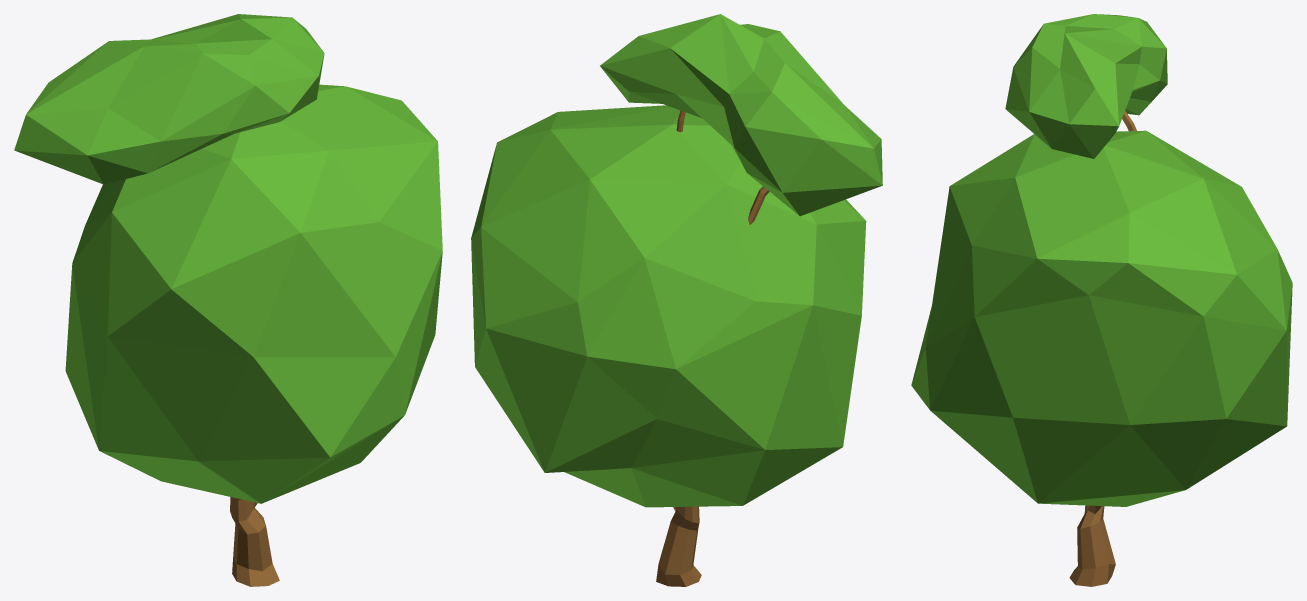
File: Bush_3.fbx
3 views of the same model, side by side, from view 1: azimuth 30°, elevation 25°; view 2: azimuth 150°, elevation 25°; view 3: azimuth 270°, elevation 25° (orthographic). The views are drawn at different scales.
Parts seen in each view (by area): view 1: Bush_3; view 2: Bush_3; view 3: Bush_3.
Boxes of the visible parts, left/top/right/bottom form: Bush_3: left=14, top=14, right=442, bottom=586; Bush_3: left=471, top=14, right=882, bottom=586; Bush_3: left=911, top=14, right=1292, bottom=586.
Bounding box in the file's own units: 176 × 248 × 161.
